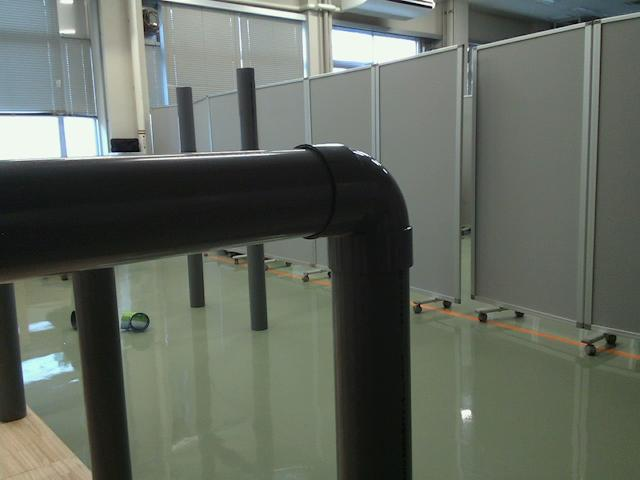bent: (296, 142, 413, 275)
